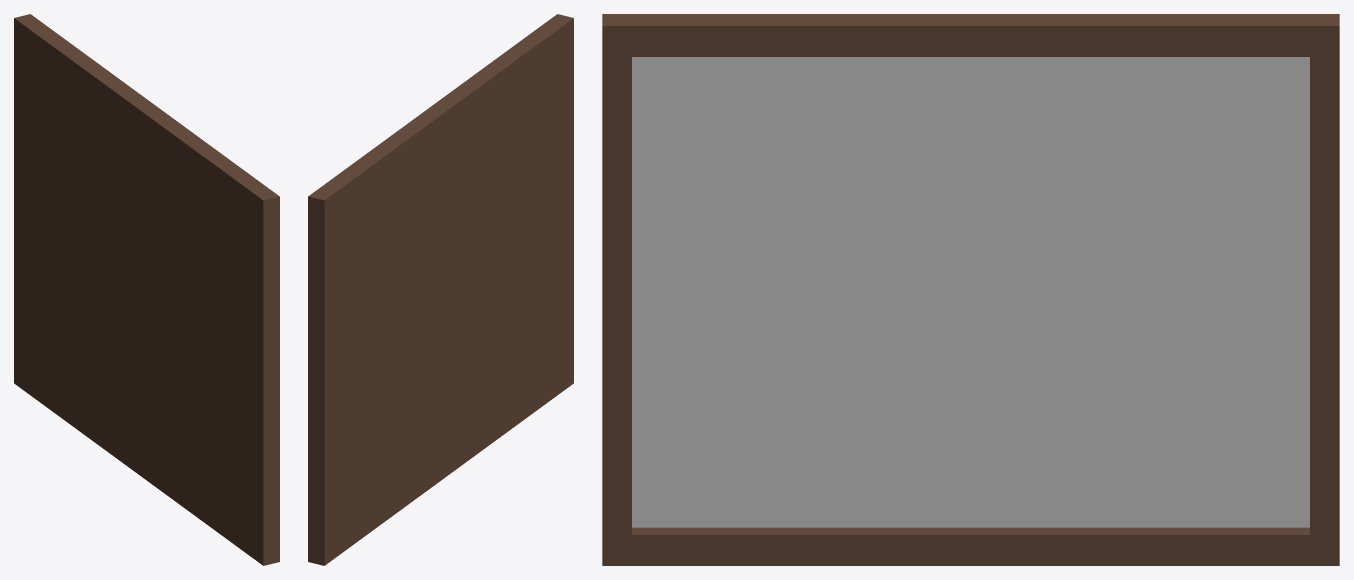
File: paint.fbx
3 views of the same model, side by side, from view 1: azimuth 30°, elevation 25°; view 2: azimuth 150°, elevation 25°; view 3: azimuth 270°, elevation 25° (orthographic). The views are drawn at different scales.
Visible parts, largest first — view 1: Cube; view 2: Cube; view 3: Cube.
Part boxes in pixels (box(x1,y1,x2,y2)): Cube: box(14, 14, 279, 565); Cube: box(308, 14, 573, 565); Cube: box(602, 14, 1339, 565).
Size of the model in its own units: 6.22 by 132 by 163.
